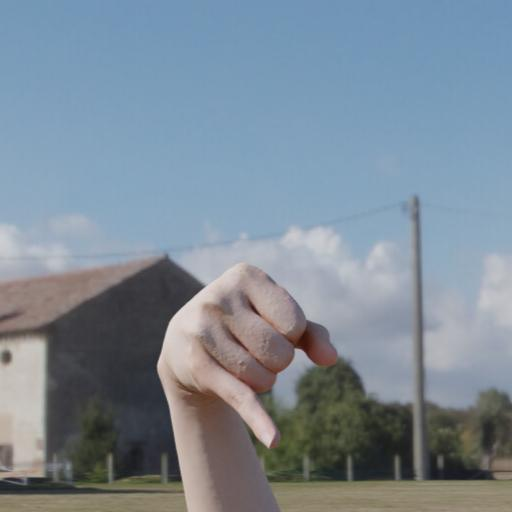J: (146, 238, 362, 452)
